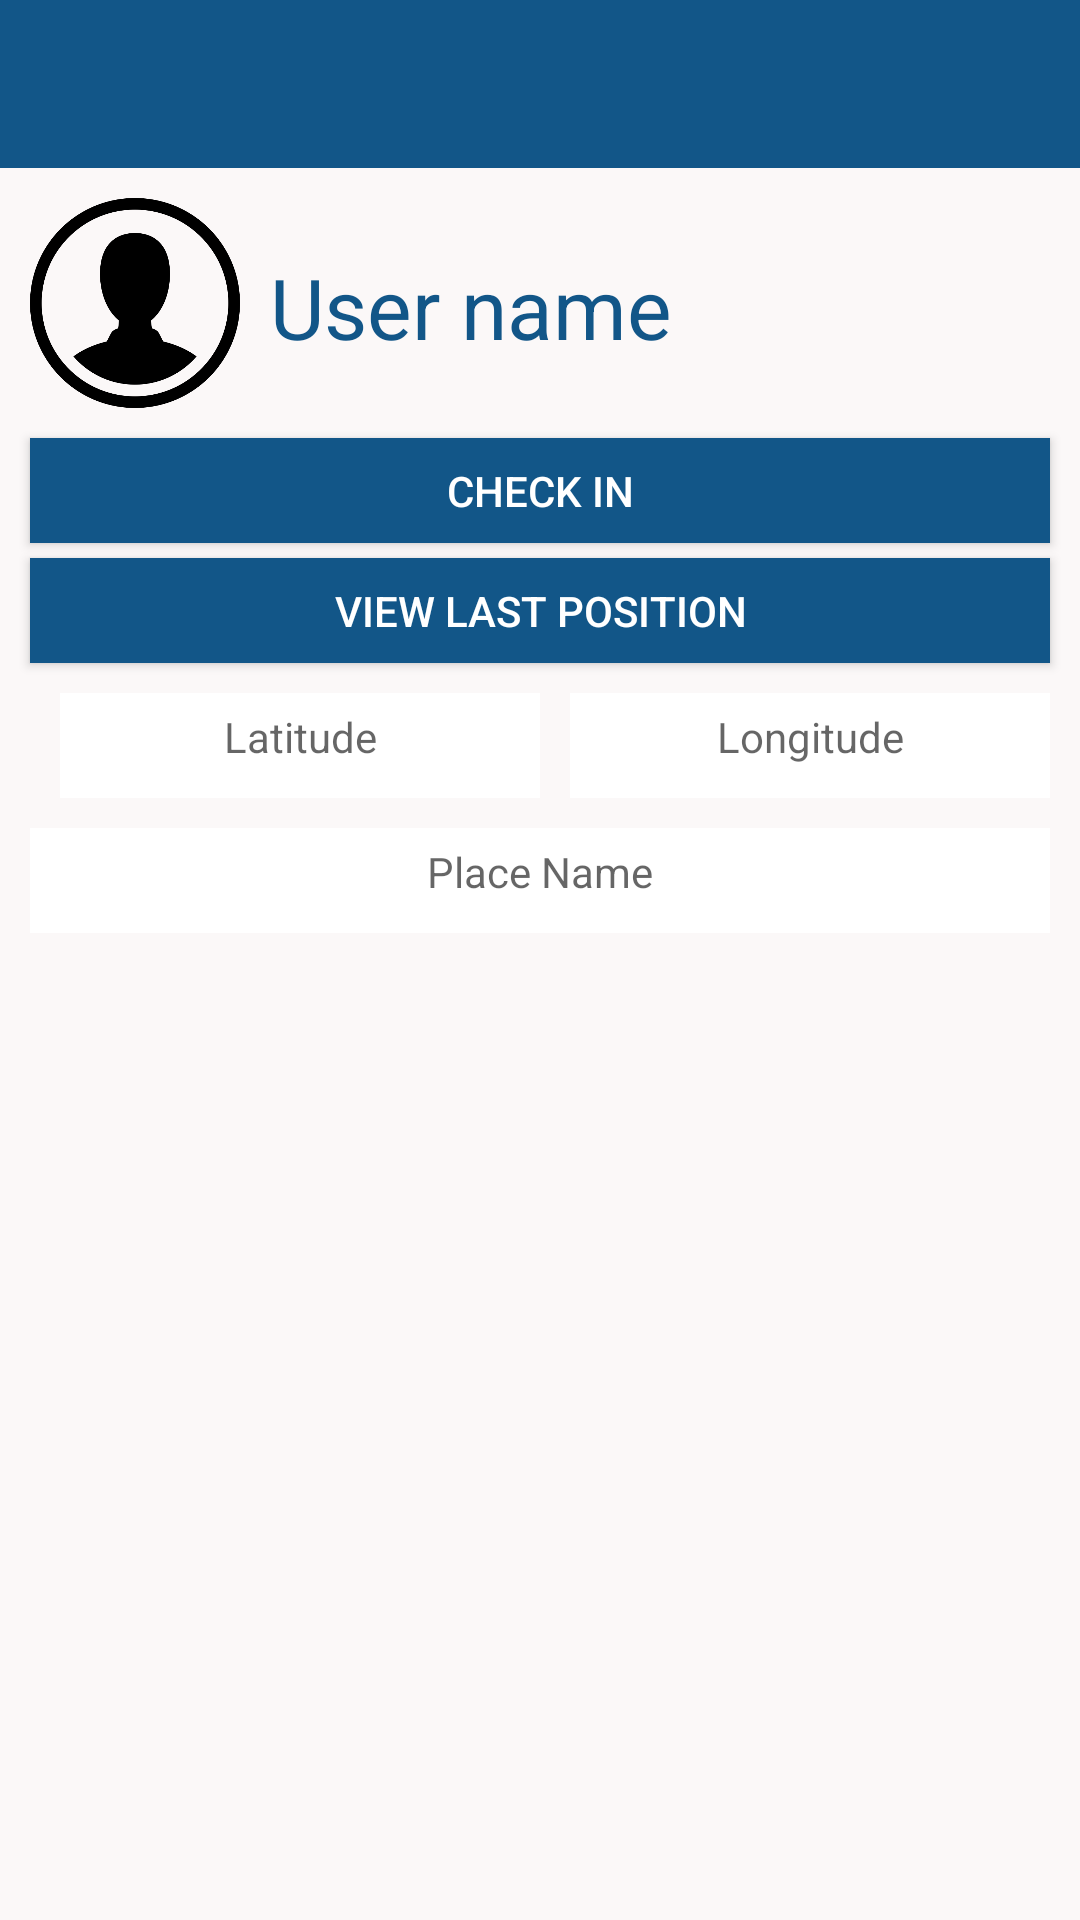

Icon click points for this 1080×1920 phone screenshot, format (x=x, y=y):
profile: (x=135, y=303)
